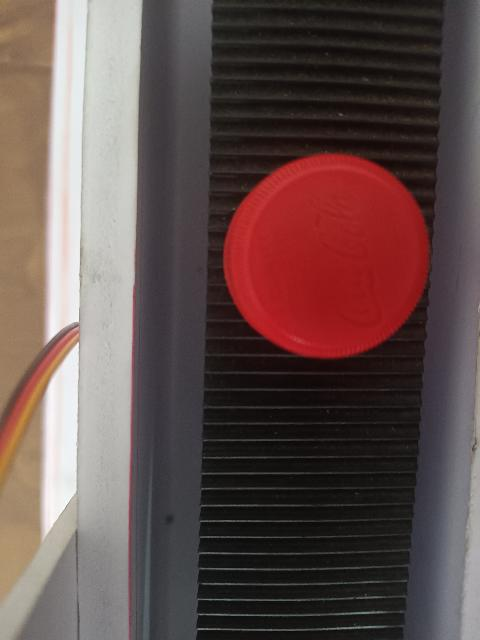bottlecap: (221, 144, 433, 358)
